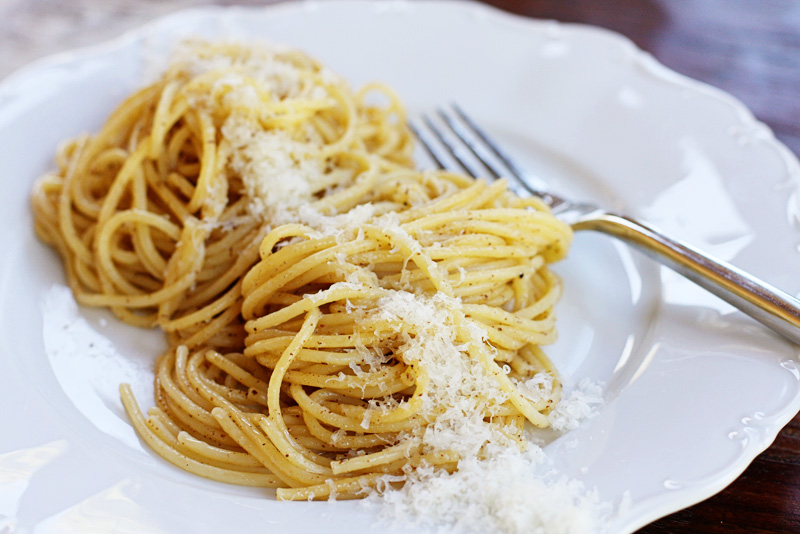plain spaghetti: (62, 47, 566, 506)
